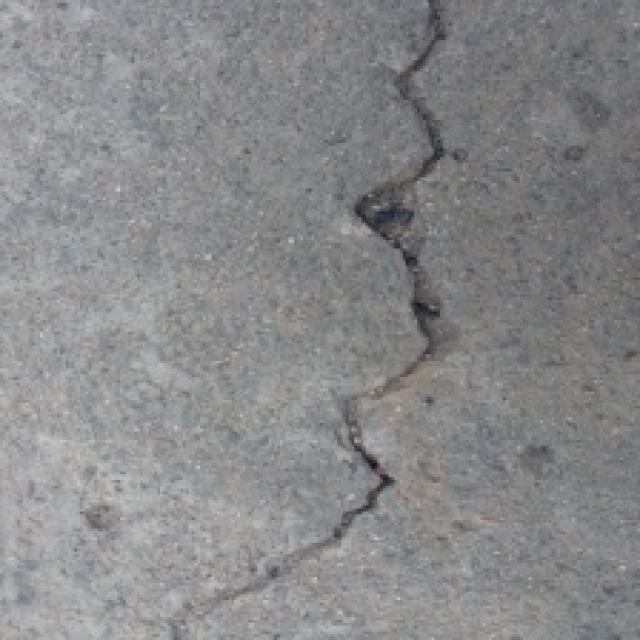SurfaceCrack: (164, 4, 490, 640)
